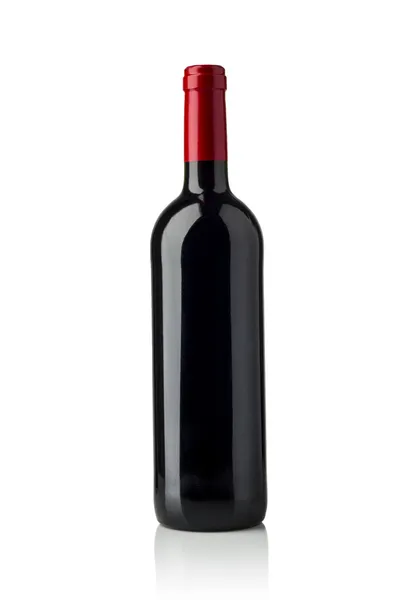glass_bottle: (134, 57, 290, 548)
